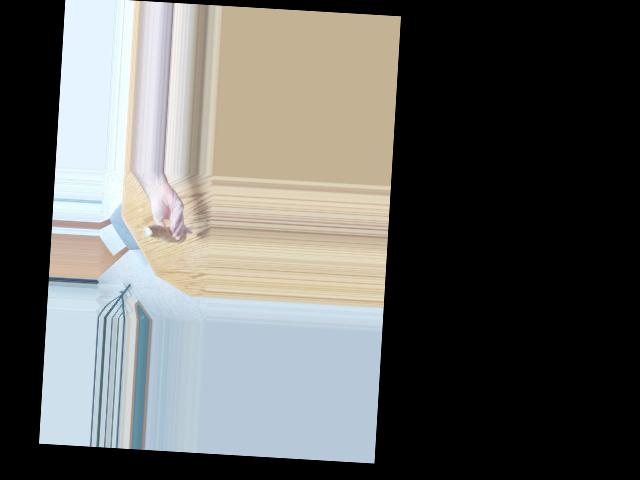sweet_potato: (144, 219, 182, 245)
